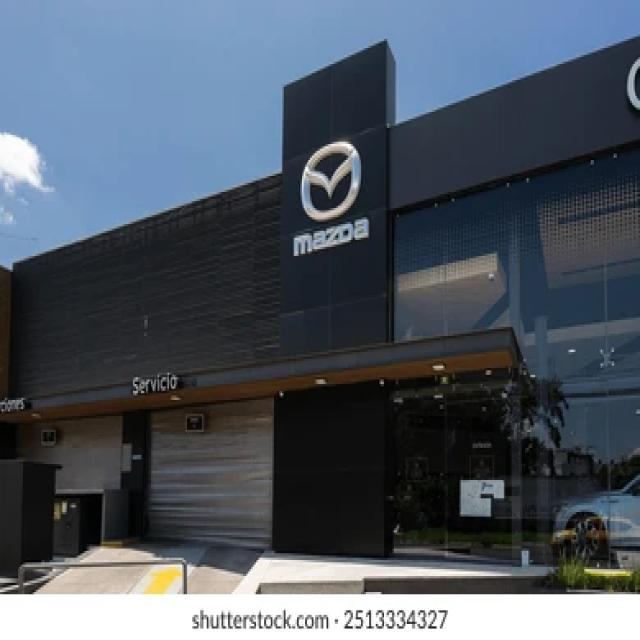mazda: (295, 134, 363, 227)
